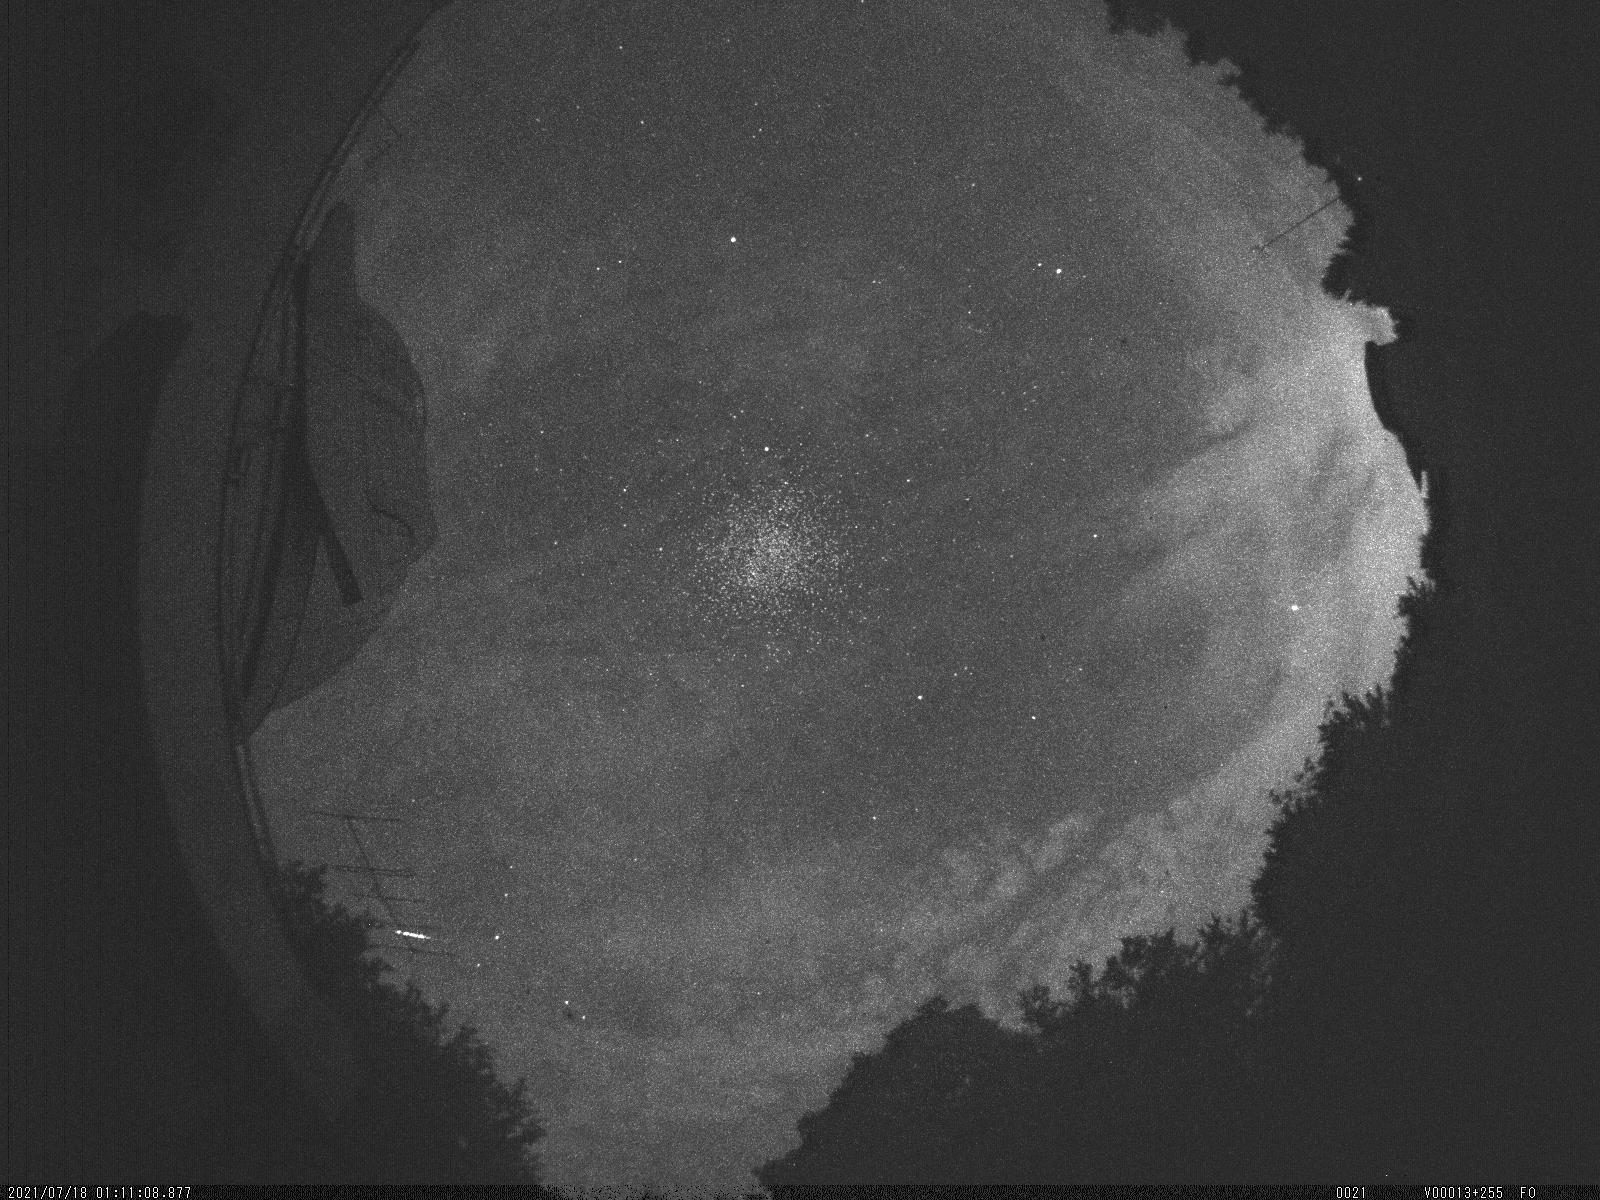Meteor: (393, 920, 442, 945)
